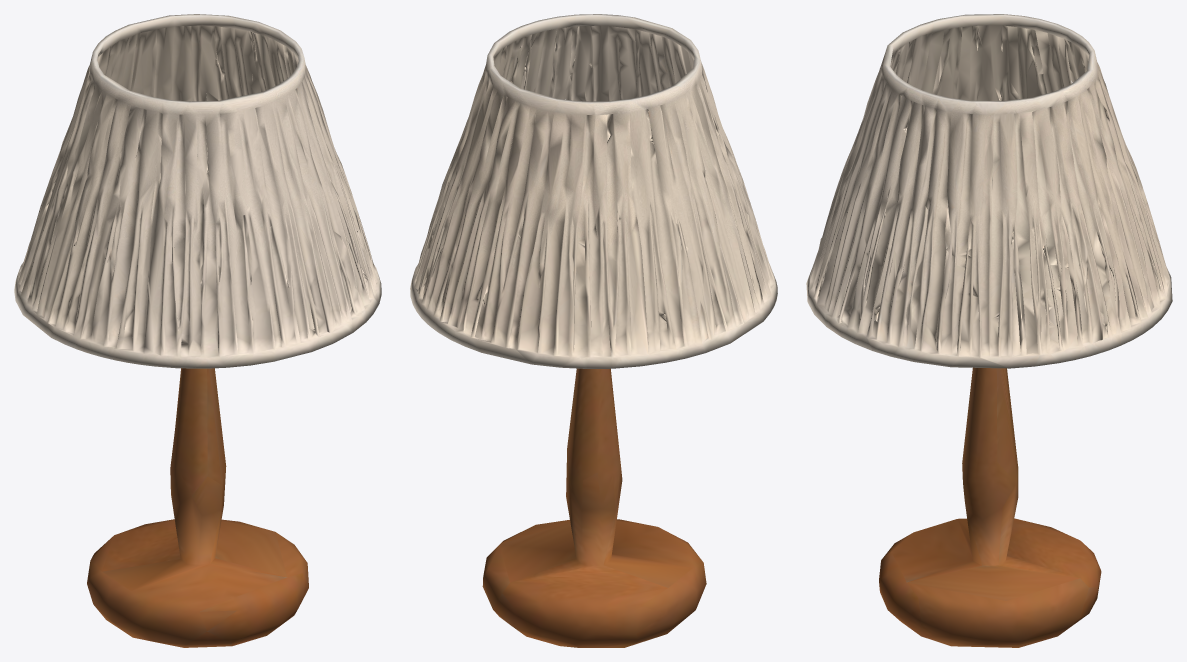
Rendered from bedside-lamp.glb.
3 renders of one model, left to right at view 1: azimuth 30°, elevation 25°; view 2: azimuth 150°, elevation 25°; view 3: azimuth 270°, elevation 25°, orthographic.
Parts seen in each view (by area): view 1: Mesh_0; view 2: Mesh_0; view 3: Mesh_0.
Boxes of the visible parts, box(x1,y1,x2,y2) form: Mesh_0: box(14, 14, 381, 647); Mesh_0: box(410, 14, 777, 647); Mesh_0: box(806, 14, 1172, 647).
Size of the model in its own units: 0.2388 by 0.3998 by 0.2388.
Materials: 1 (1 with a texture image).
